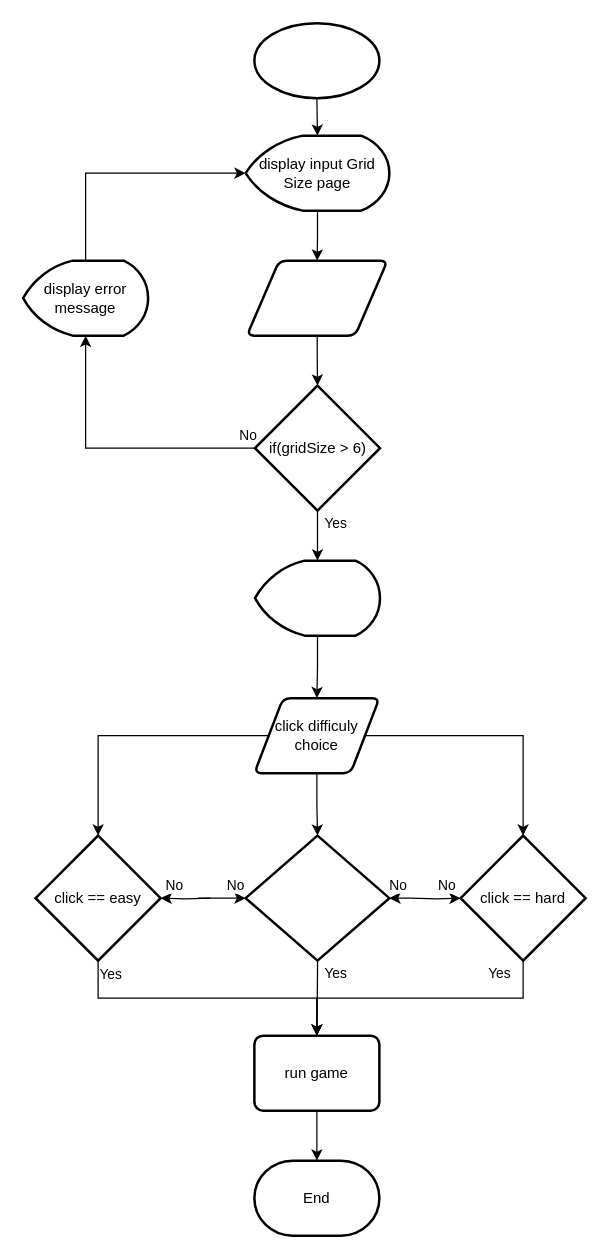
This 608x1258 diagram has some shape labels left out. The shapes that lost their labels are listed below. From the top down, each one's centre as x and y in pixels, then its label:
At [316,60]: "Start".
At [316,297]: "input gridSize".
At [317,597]: "display difficulty page".
At [317,897]: "click == moderate".
